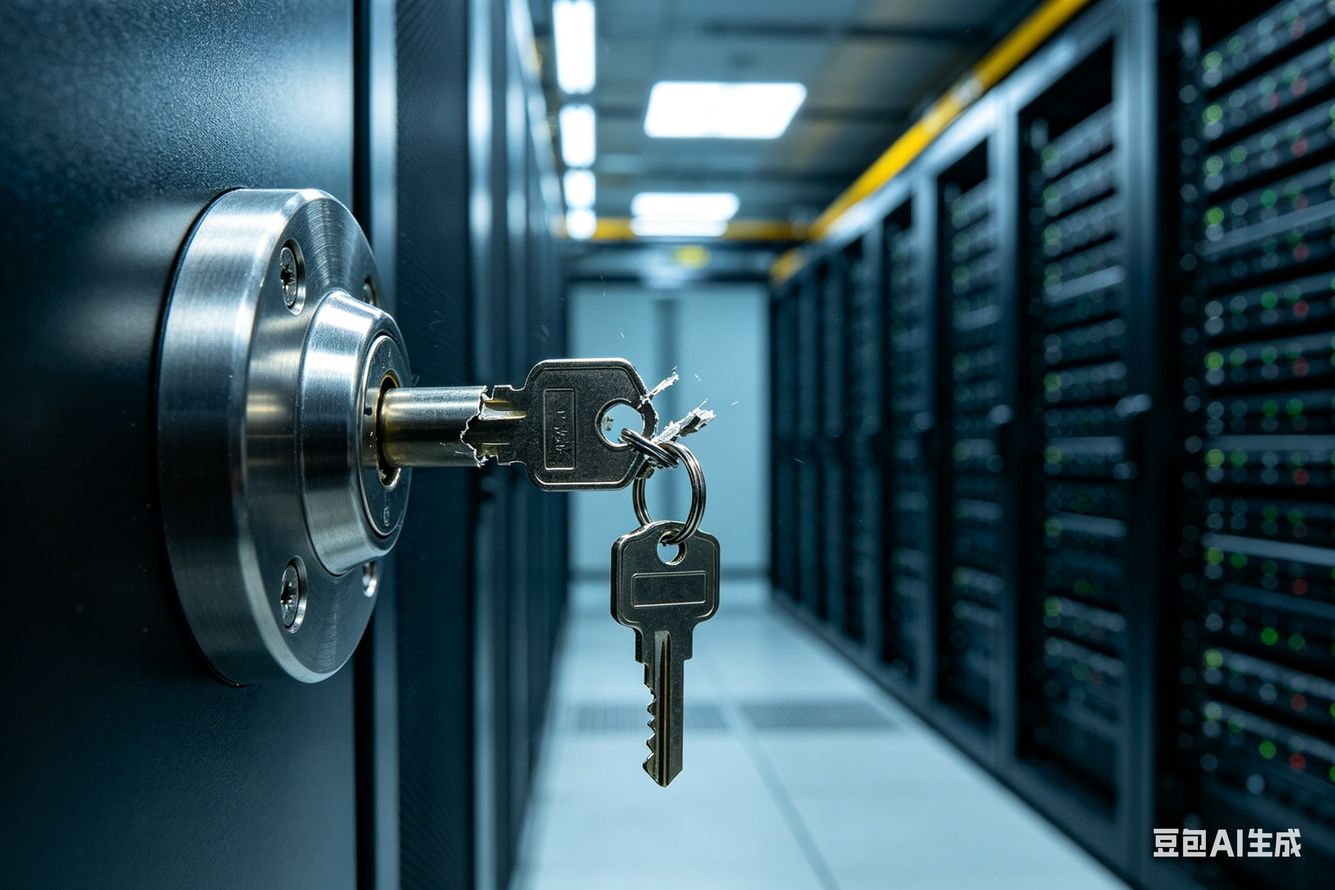BadLock: (382, 376, 703, 516)
